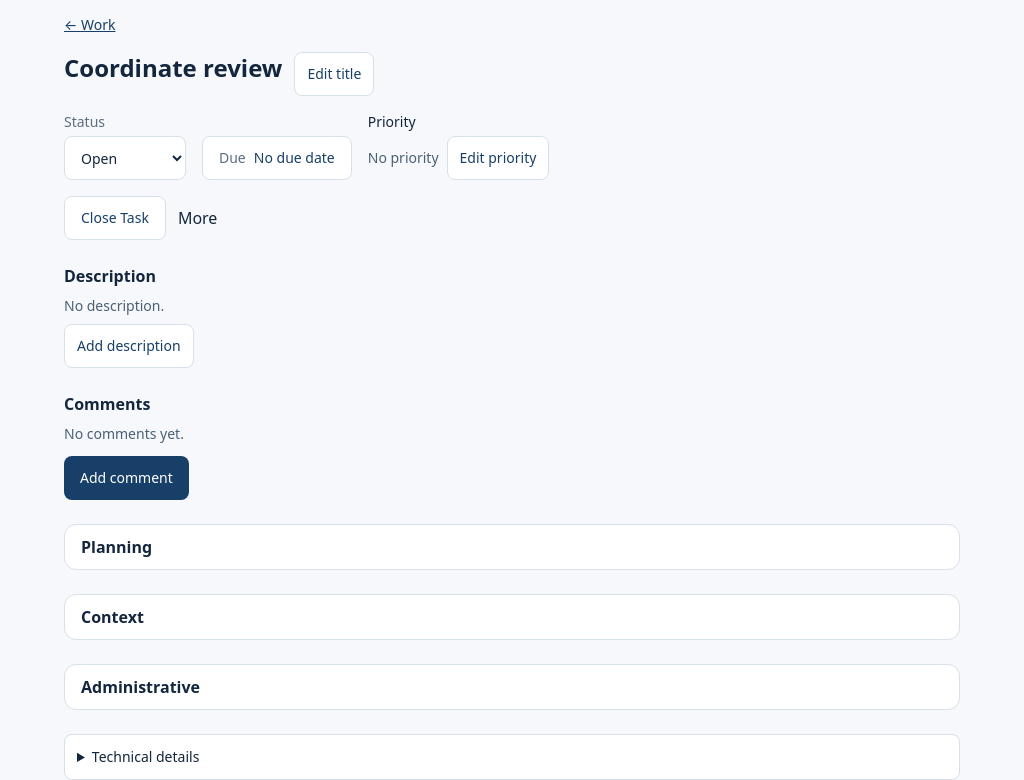
TaskDetailView authoritative draft / conflict › blocks Close while the description is dirty
Click the button with test id "task-add-description": [129, 346] box [64,324,194,368]
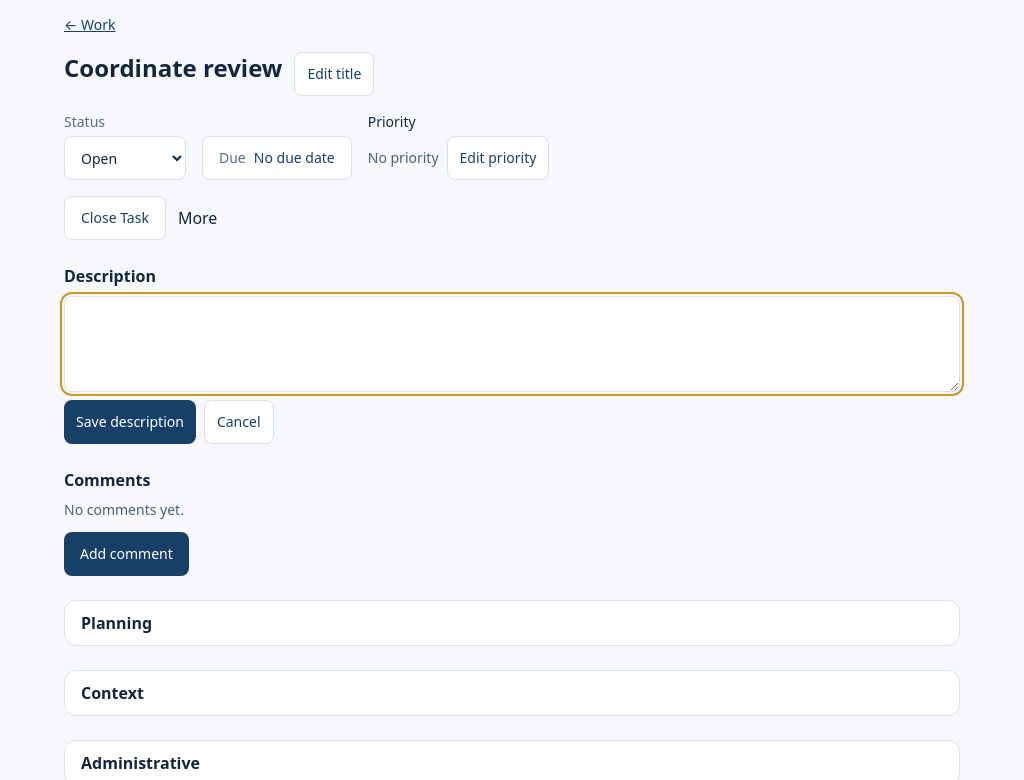
In the text box named "Description": [512, 344] box [64,296,960,392], type "Unsaved notes"
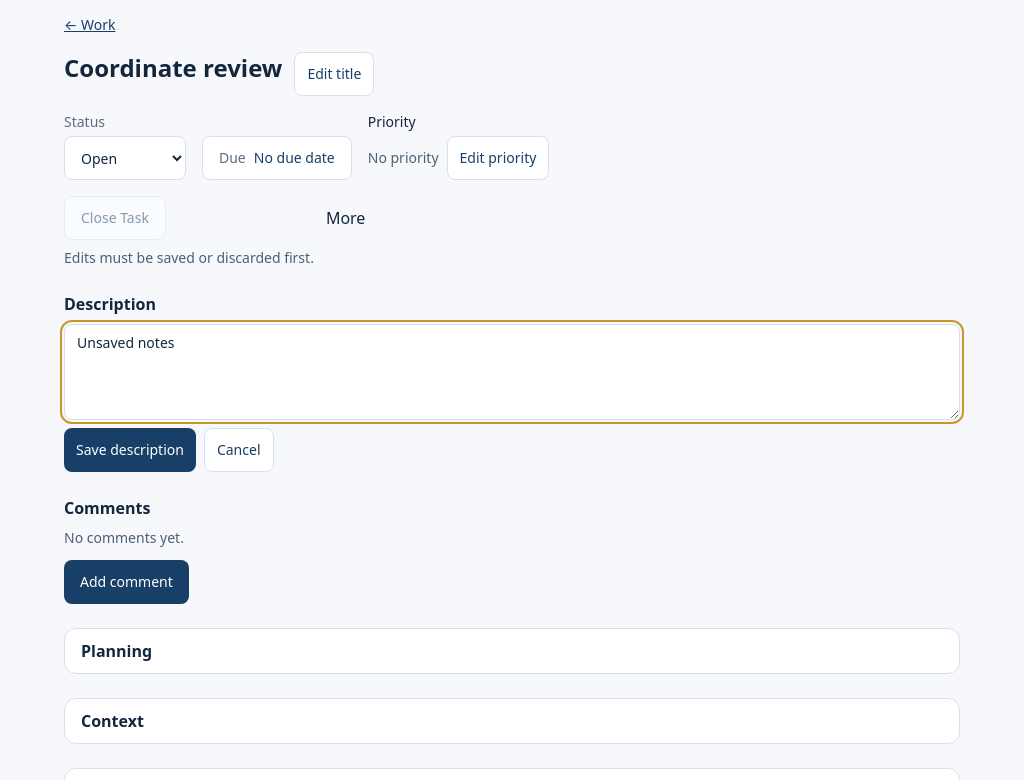
Now the text "Edits must be saved or discarded first." is shown, box [64,248,314,268]
Now the button with test id "task-close-trigger" is disabled, box [64,196,166,240]
